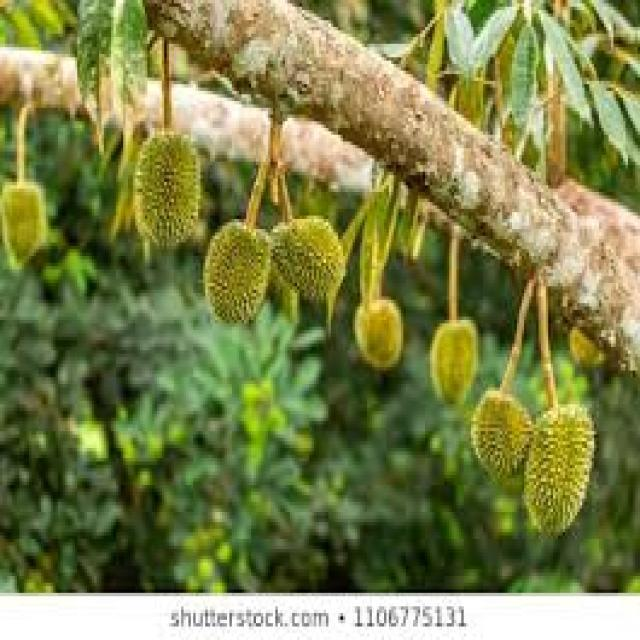immature: (524, 402, 598, 534), (133, 129, 203, 243), (205, 216, 271, 330), (271, 215, 347, 299), (471, 385, 533, 476)
